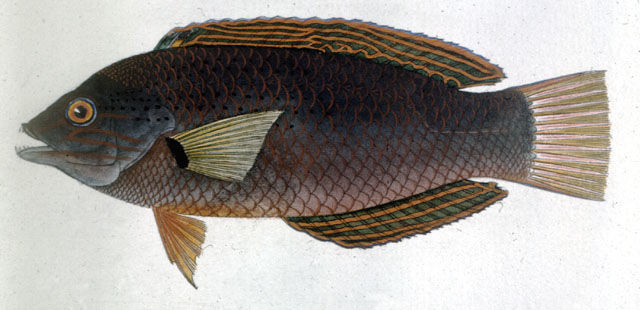fish: (13, 14, 613, 290)
